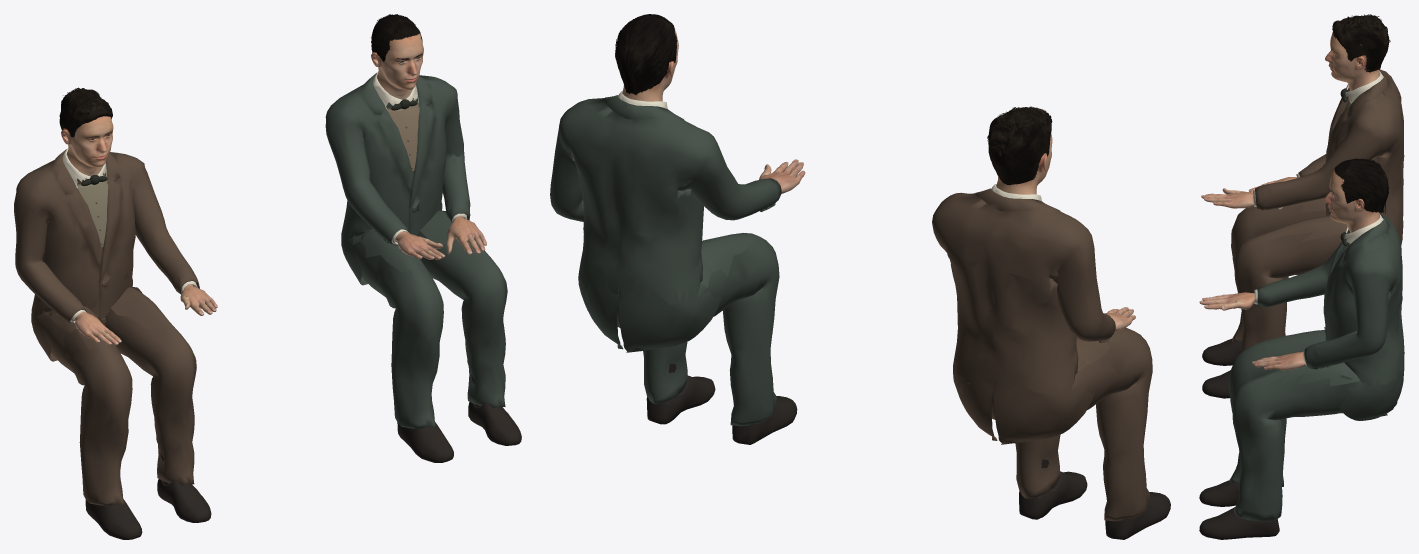
The model's file is brewery-characters.glb.
3 views of the same model, side by side, from view 1: azimuth 30°, elevation 25°; view 2: azimuth 150°, elevation 25°; view 3: azimuth 270°, elevation 25° (orthographic). The views are drawn at different scales.
Visible parts, largest first — view 1: edward_upper_Coat, john_upper_Coat, edward_root_Coat, john_root_Coat, edward_root_Boot, john_root_Boot, john_head_Skin, edward_head_Skin, john_upper_Skin, edward_upper_Skin, edward_head_Hair, john_head_Hair (+3 smaller); view 2: john_upper_Coat, edward_upper_Coat, edward_root_Coat, john_root_Coat, edward_head_Hair, john_head_Hair, edward_root_Boot, john_root_Boot, john_upper_Skin, edward_head_Skin, john_head_Skin; view 3: john_upper_Coat, john_root_Coat, edward_upper_Coat, edward_root_Coat, john_root_Boot, edward_head_Hair, john_head_Hair, john_head_Skin, john_upper_Skin, edward_head_Skin, edward_root_Boot, edward_upper_Skin (+2 smaller).
Part boxes in pixels (left/top/right/bottom): edward_upper_Coat: left=14, top=149, right=199, bottom=349; john_upper_Coat: left=325, top=73, right=490, bottom=278; edward_root_Coat: left=31, top=292, right=196, bottom=505; john_root_Coat: left=341, top=224, right=507, bottom=428; edward_root_Boot: left=85, top=452, right=211, bottom=539; john_root_Boot: left=397, top=374, right=521, bottom=462; john_head_Skin: left=371, top=33, right=423, bottom=96; edward_head_Skin: left=61, top=116, right=113, bottom=173; john_upper_Skin: left=394, top=90, right=486, bottom=259; edward_upper_Skin: left=74, top=166, right=217, bottom=345; edward_head_Hair: left=59, top=87, right=112, bottom=137; john_head_Hair: left=371, top=14, right=422, bottom=61; john_upper_Coat: left=550, top=95, right=781, bottom=307; edward_upper_Coat: left=932, top=188, right=1128, bottom=393; edward_root_Coat: left=953, top=328, right=1152, bottom=521; john_root_Coat: left=578, top=235, right=779, bottom=426; edward_head_Hair: left=987, top=106, right=1052, bottom=185; john_head_Hair: left=615, top=14, right=677, bottom=95; edward_root_Boot: left=1019, top=459, right=1170, bottom=539; john_root_Boot: left=646, top=363, right=797, bottom=444; john_upper_Skin: left=759, top=159, right=805, bottom=193; edward_head_Skin: left=996, top=133, right=1052, bottom=194; john_head_Skin: left=615, top=30, right=678, bottom=101; john_upper_Coat: left=1253, top=214, right=1404, bottom=386; john_root_Coat: left=1229, top=342, right=1404, bottom=522; edward_upper_Coat: left=1255, top=69, right=1404, bottom=241; edward_root_Coat: left=1231, top=204, right=1403, bottom=351; john_root_Boot: left=1199, top=480, right=1279, bottom=539; edward_head_Hair: left=1332, top=14, right=1390, bottom=72; john_head_Hair: left=1334, top=158, right=1389, bottom=213; john_head_Skin: left=1324, top=169, right=1379, bottom=232; john_upper_Skin: left=1199, top=232, right=1350, bottom=370; edward_head_Skin: left=1325, top=31, right=1379, bottom=90; edward_root_Boot: left=1202, top=338, right=1242, bottom=398; edward_upper_Skin: left=1201, top=90, right=1350, bottom=209.
Size of the model in its own units: 1.74 by 1.41 by 0.7245.
Materials: 20 (8 with a texture image).
